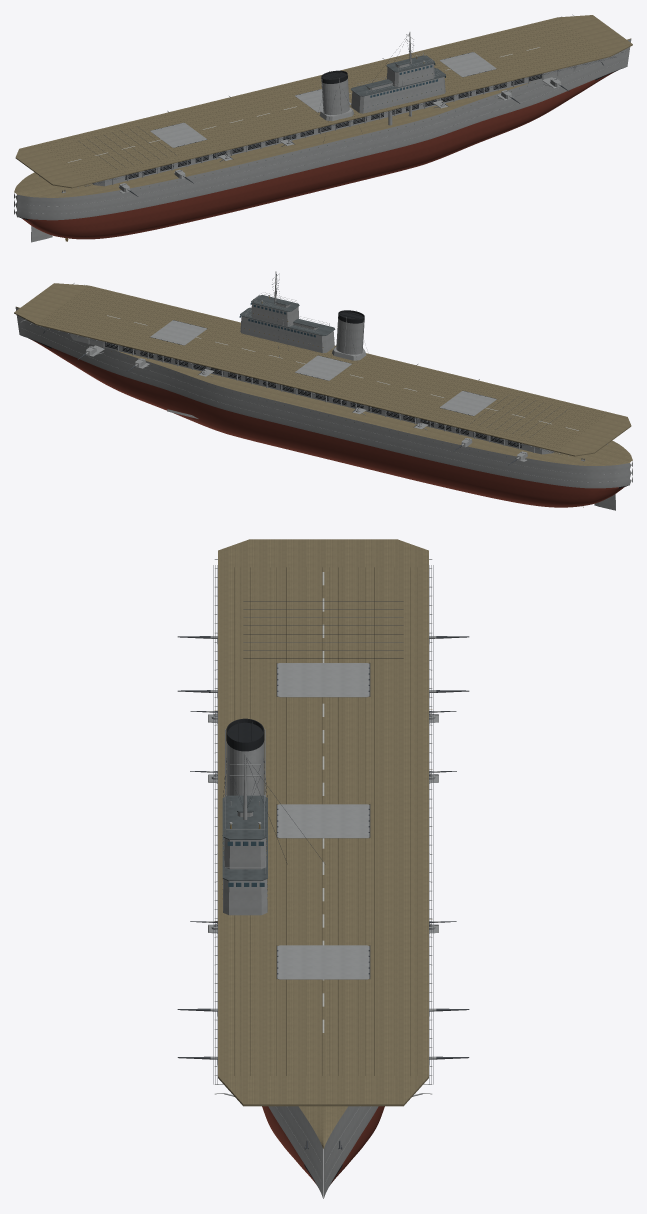
File: bearn_cv.glb
The picture shows the model from 3 angles, top to bottom: view 1: azimuth 30°, elevation 25°; view 2: azimuth 150°, elevation 25°; view 3: azimuth 270°, elevation 25°; orthographic projection. The views are drawn at different scales.
Visible parts, largest first — view 1: Bearn (carrier conversion); view 2: Bearn (carrier conversion); view 3: Bearn (carrier conversion).
Part boxes in pixels (x1,y1,x2,y2): Bearn (carrier conversion): (14,14,632,242); Bearn (carrier conversion): (14,271,632,510); Bearn (carrier conversion): (177,539,469,1198).
Size of the model in its own units: 183 by 39.63 by 37.44.
Materials: 9 (8 with a texture image).
